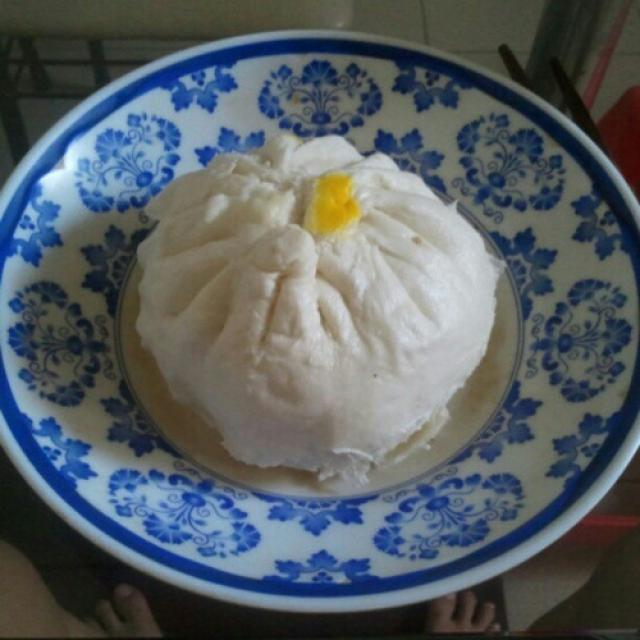带馅早点: (109, 109, 513, 517)
